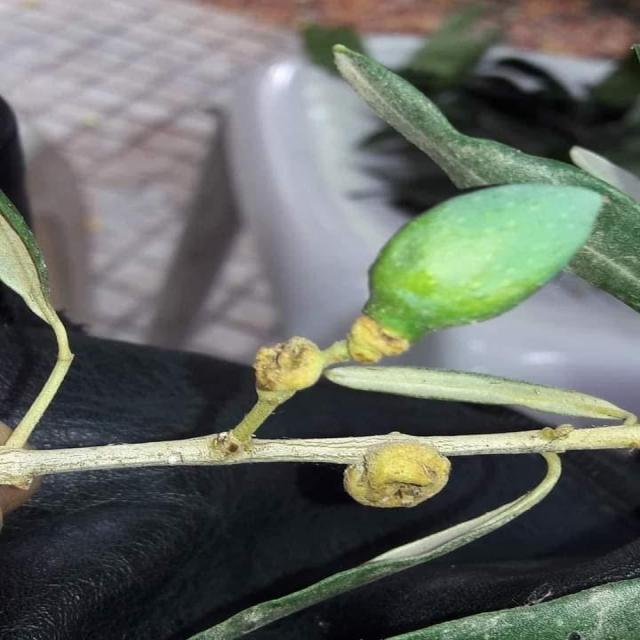Tuberculosis: (344, 438, 452, 508), (251, 337, 328, 414)
